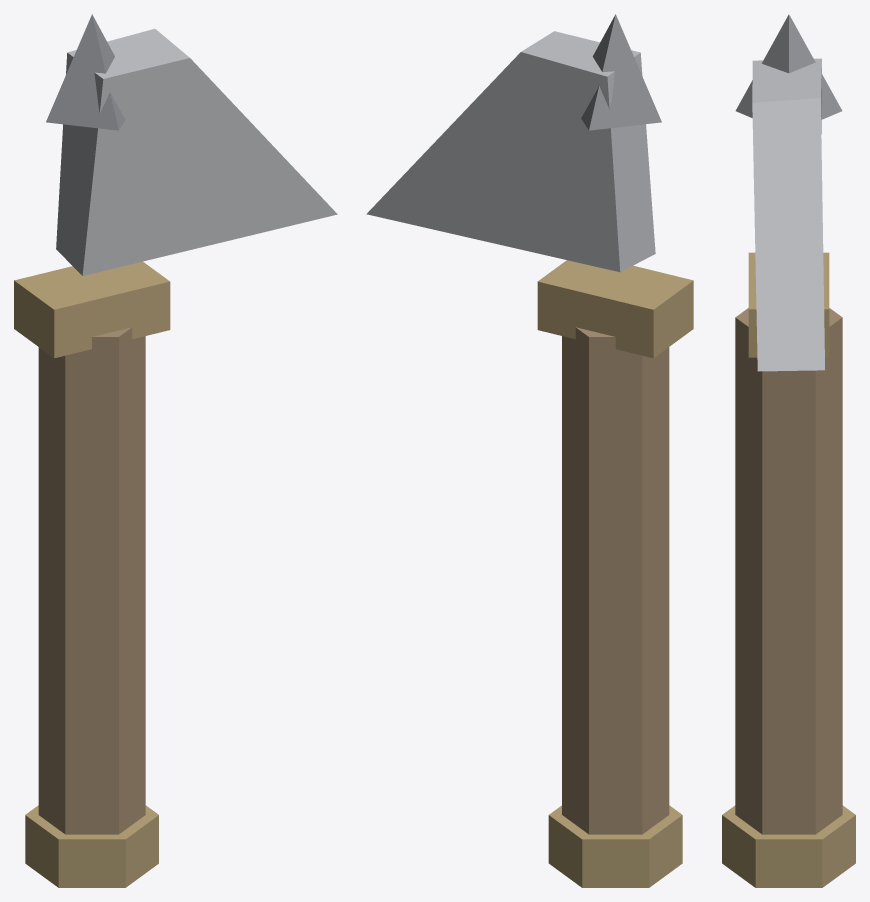
The model's file is fellaxe.glb.
3 views of the same model, side by side, from view 1: azimuth 30°, elevation 25°; view 2: azimuth 150°, elevation 25°; view 3: azimuth 270°, elevation 25° (orthographic).
Visible parts, largest first — view 1: fellaxe; view 2: fellaxe; view 3: fellaxe.
Boxes of the visible parts, bbox=[...] form: fellaxe: bbox=[14, 14, 337, 887]; fellaxe: bbox=[366, 14, 693, 887]; fellaxe: bbox=[722, 14, 855, 887].
Bounding box in the file's own units: 0.2495 × 0.7 × 0.1.
